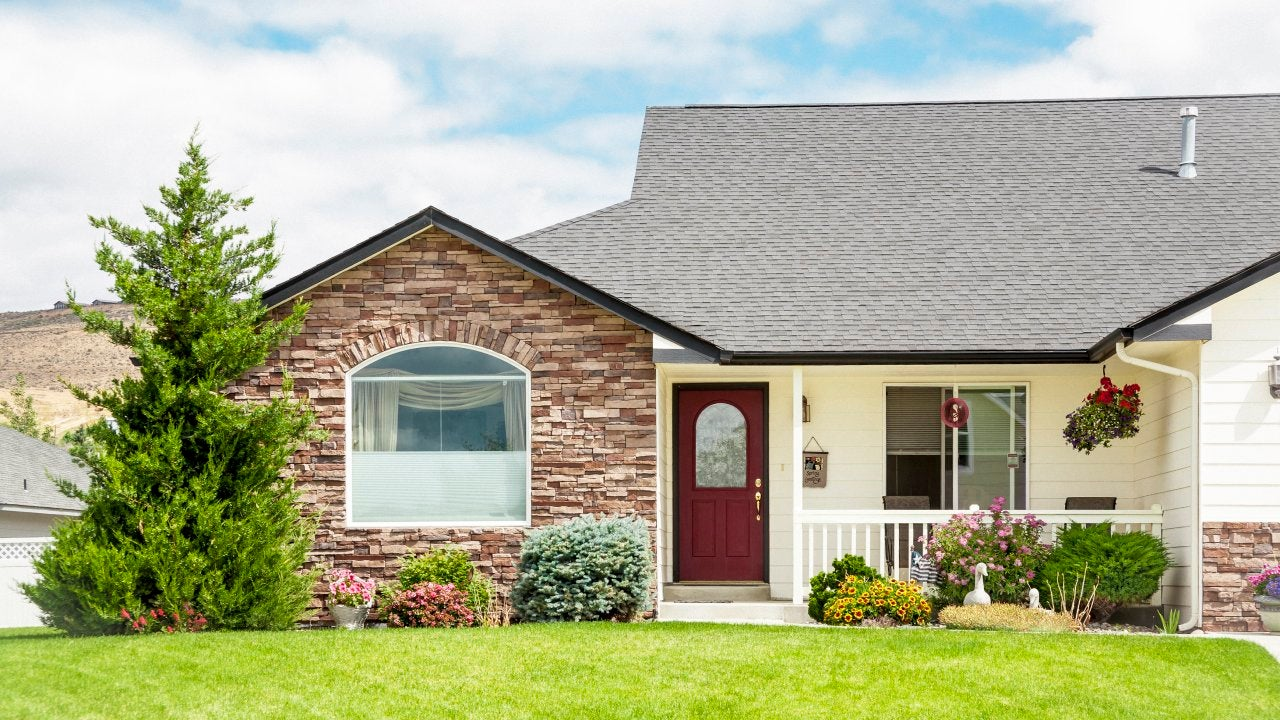Window: (336, 321, 547, 535), (883, 385, 1027, 512), (694, 404, 752, 489)
